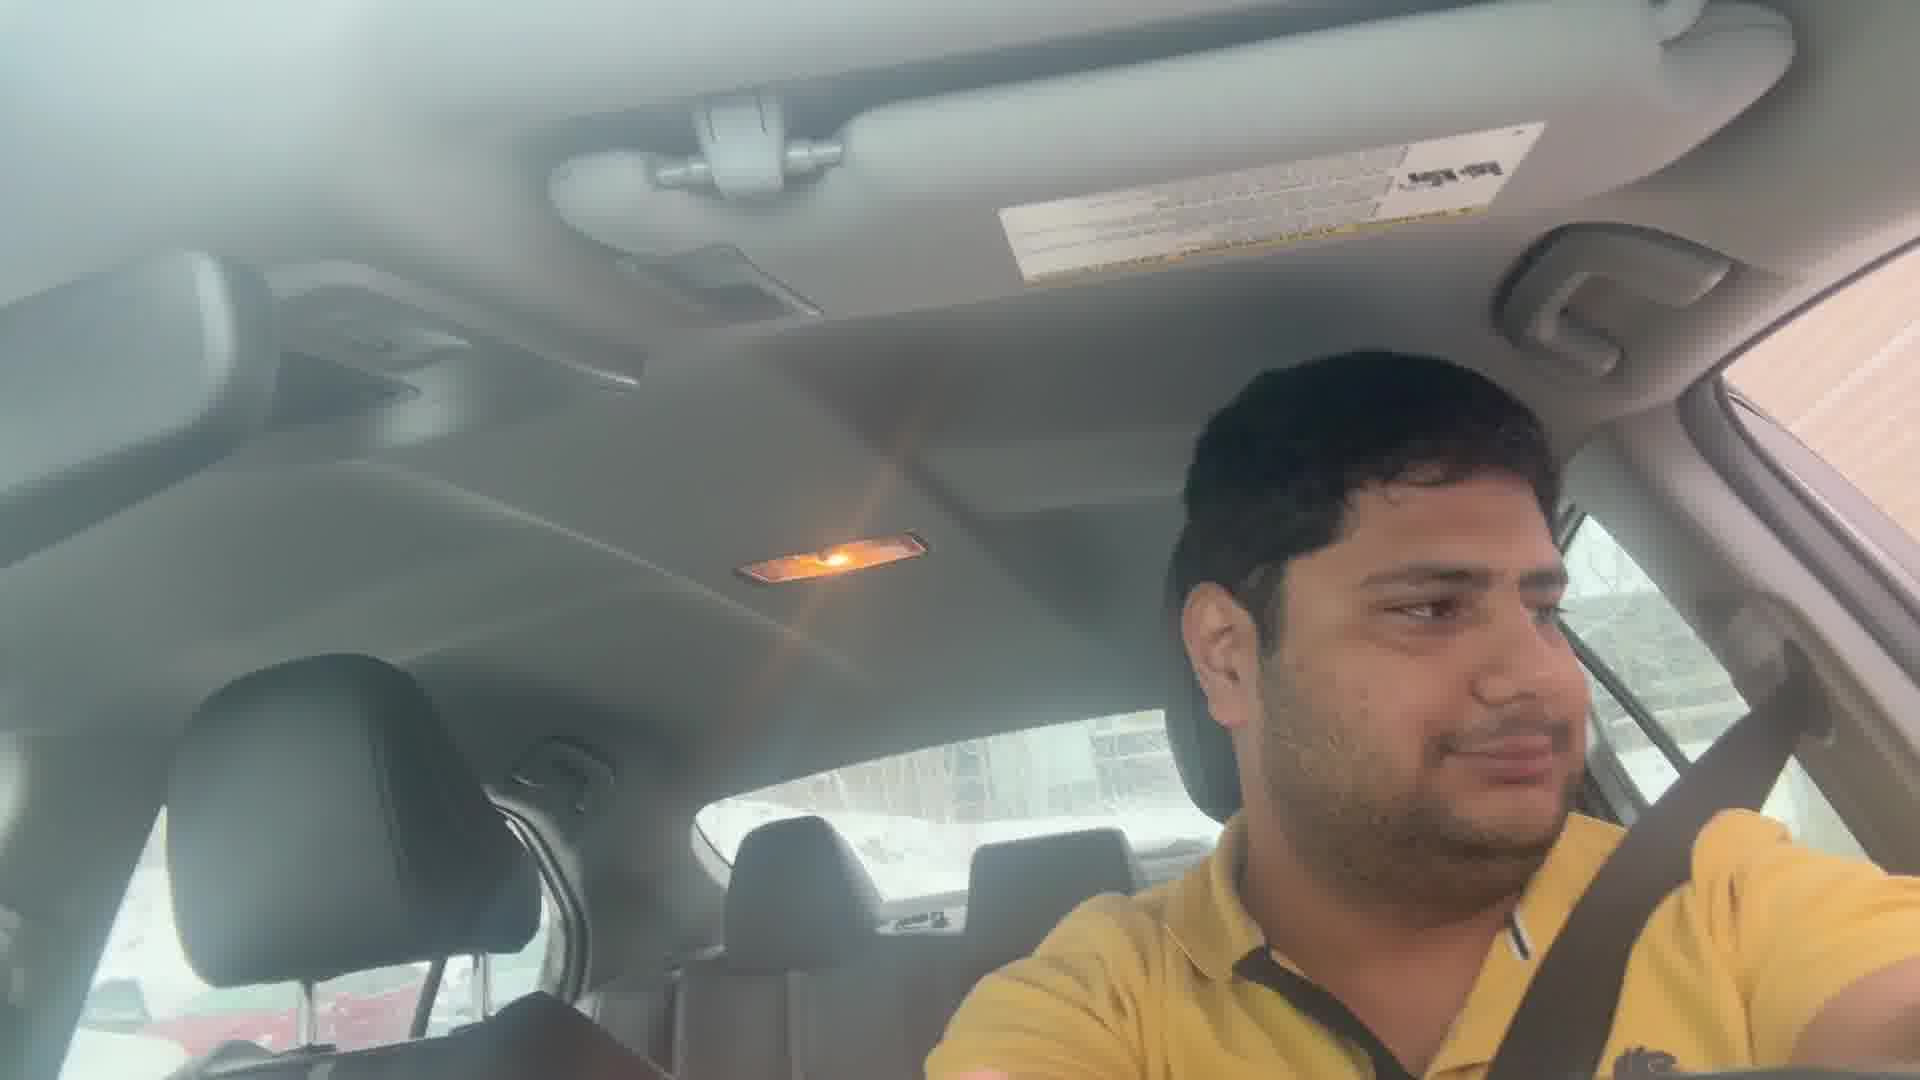seatbelt: (1495, 640, 1870, 1073)
